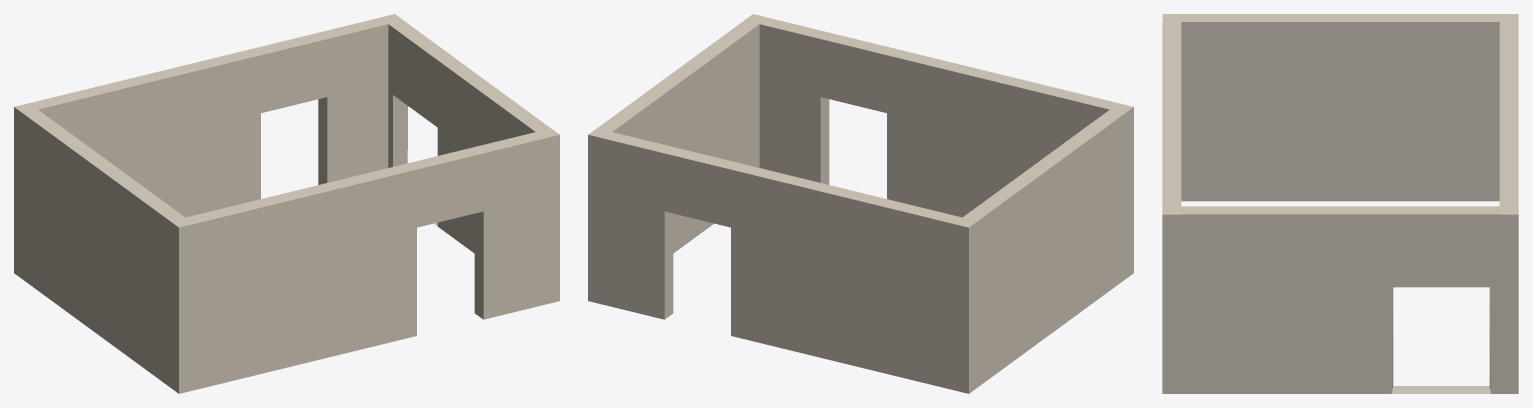
The model's file is Wall.fbx.
3 renders of one model, left to right at view 1: azimuth 30°, elevation 25°; view 2: azimuth 150°, elevation 25°; view 3: azimuth 270°, elevation 25°, orthographic. The views are drawn at different scales.
Parts seen in each view (by area): view 1: Cube.006; view 2: Cube.006; view 3: Cube.006.
Part boxes in pixels (x1,y1,x2,y2): Cube.006: (14,14,559,393); Cube.006: (588,14,1133,393); Cube.006: (1162,14,1518,393).
Size of the model in its own units: 800 by 334 by 600.
